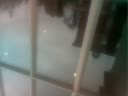window: (0, 12, 25, 96), (35, 45, 59, 63), (35, 84, 64, 96), (92, 93, 110, 96), (89, 65, 94, 71)
